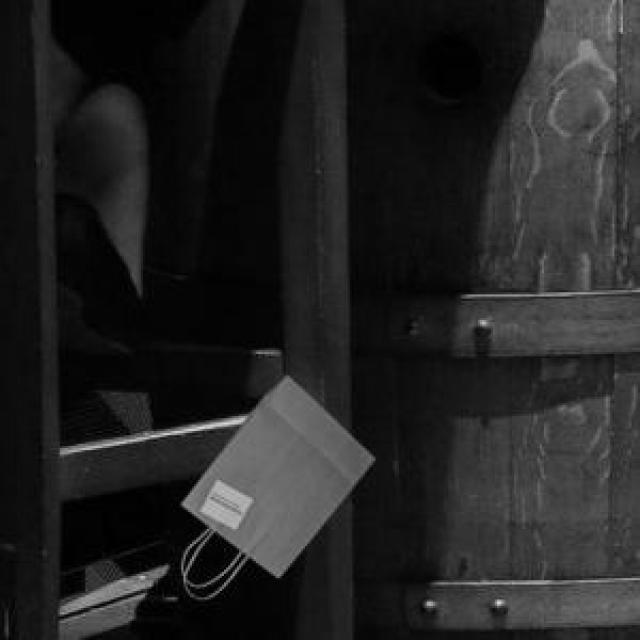paper: (177, 371, 371, 574)
